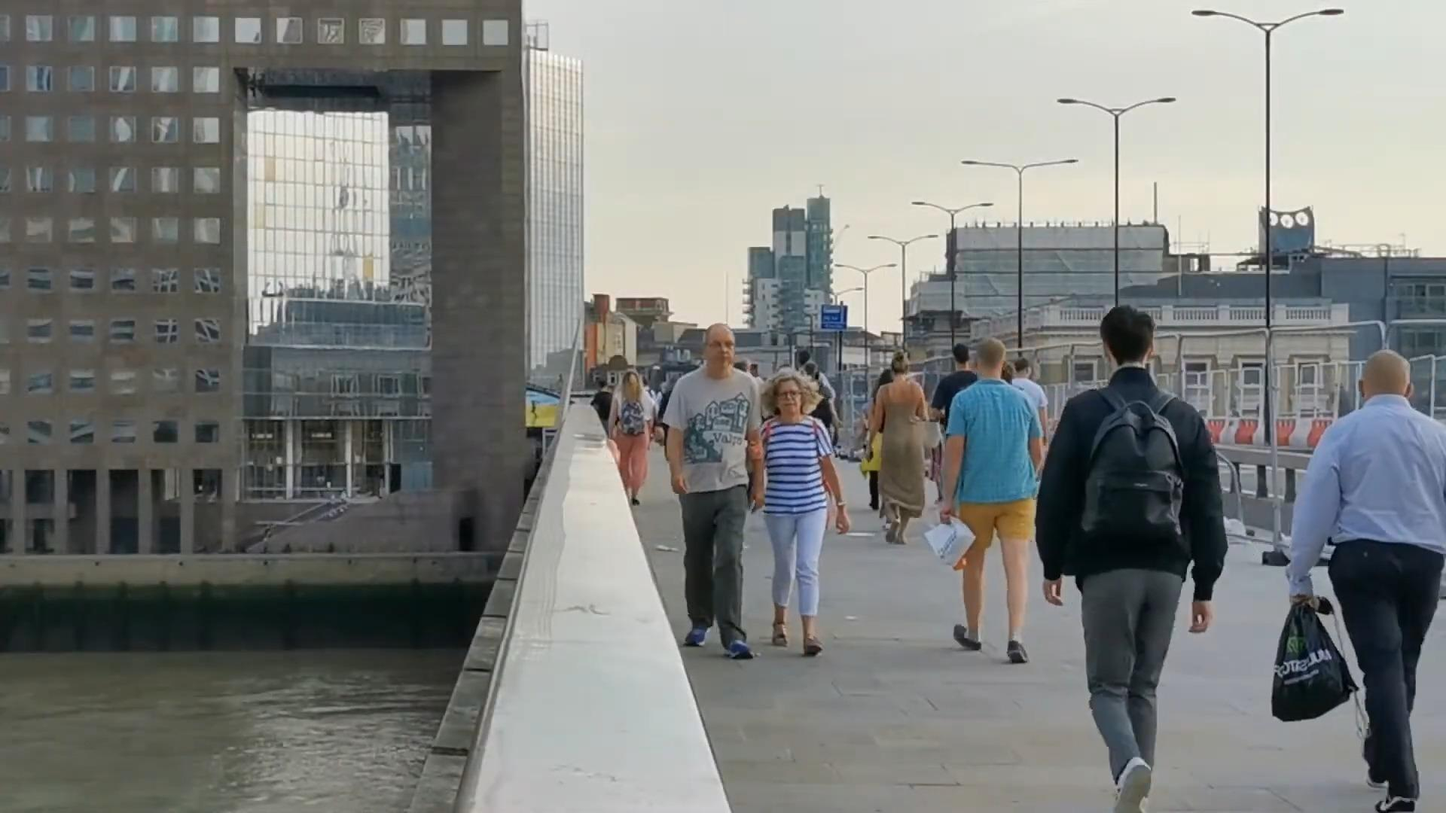no-helmet: (1100, 303, 1156, 369), (761, 366, 824, 420), (1359, 348, 1414, 403), (705, 323, 735, 370), (974, 337, 1006, 379), (619, 369, 646, 405), (890, 349, 909, 380), (952, 343, 969, 368)
